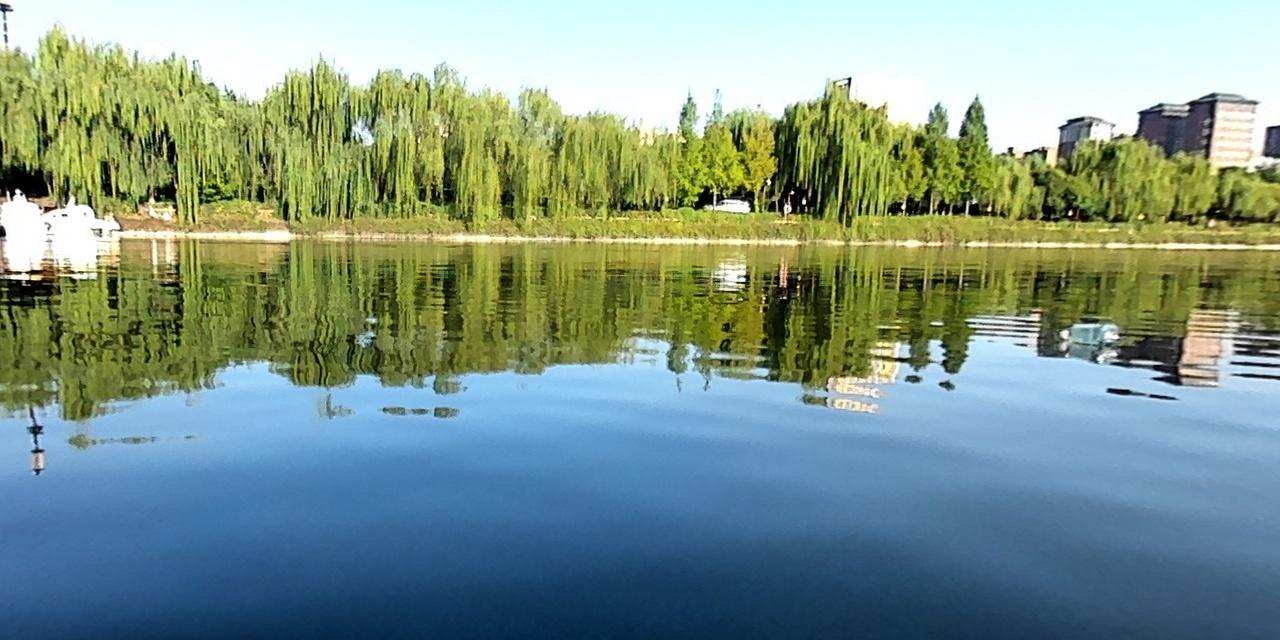bottle: (1056, 319, 1120, 346)
